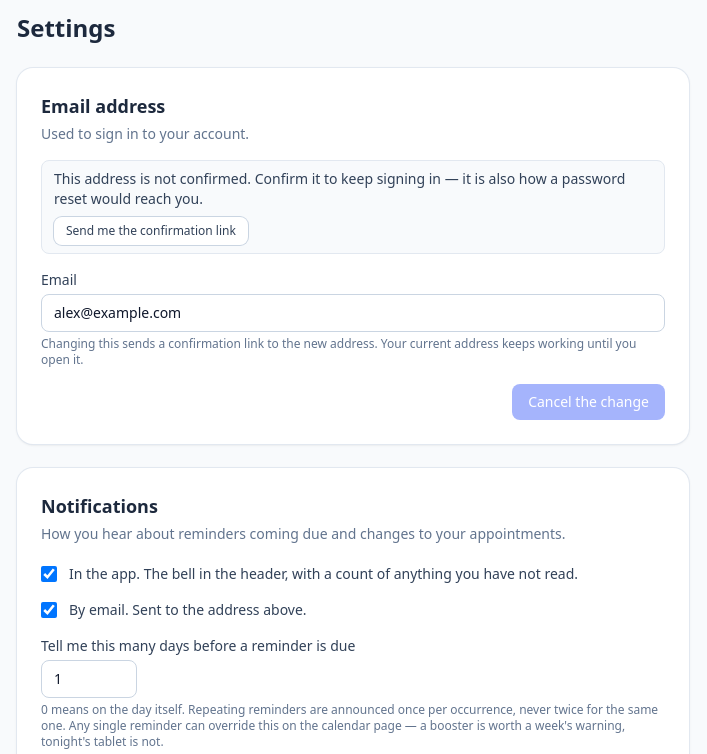
Test: the state of the address itself › surfaces an address that is already taken
The image size is (707, 754).
Replace the text in the field labelled "Email" with "taken@example.com". click: (353, 313)
box: 41,294 -> 665,332
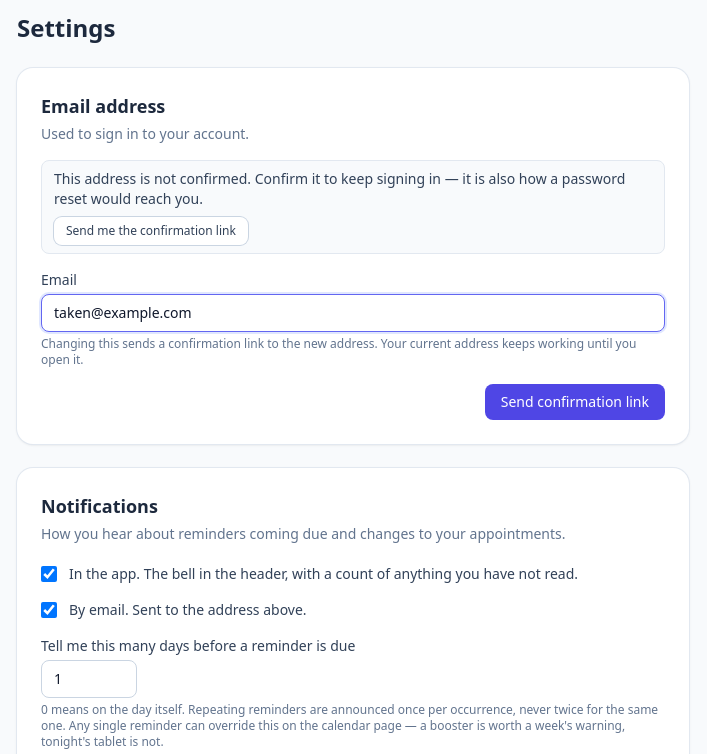
Click the button "Send confirmation link". click: (575, 402)
box: 485,384 -> 665,420
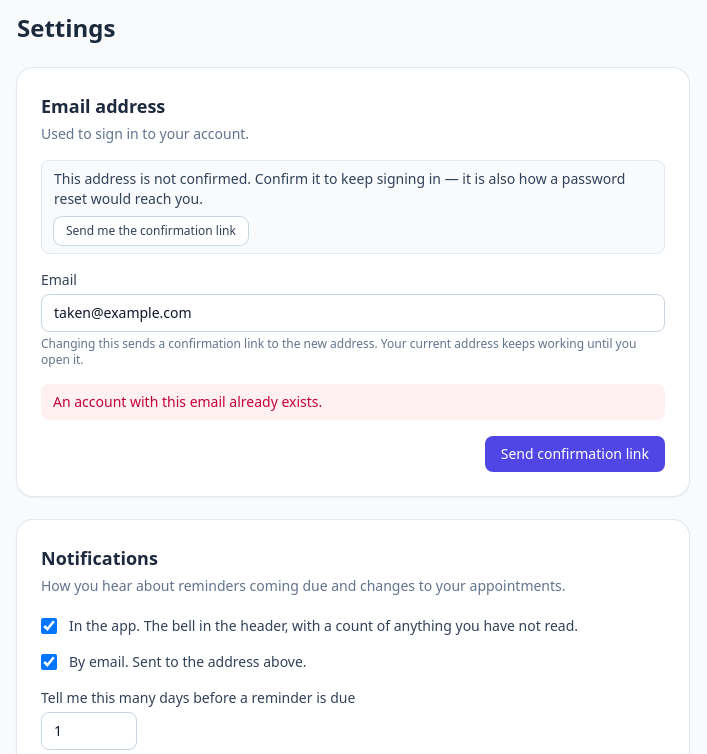
Check: the message shows "already exists", box 53,392 -> 322,411
